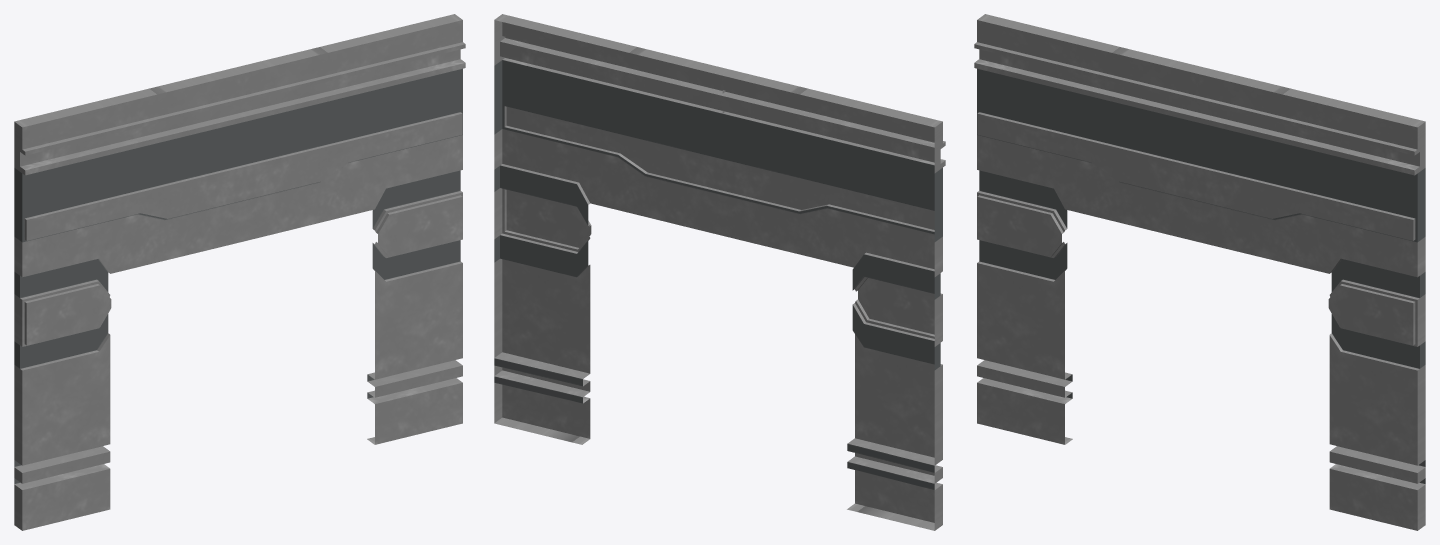
File: WallGate.fbx
3 views of the same model, side by side, from view 1: azimuth 30°, elevation 25°; view 2: azimuth 150°, elevation 25°; view 3: azimuth 330°, elevation 25° (orthographic).
Visible parts, largest first — view 1: Wall_Gate; view 2: Wall_Gate; view 3: Wall_Gate.
Part boxes in pixels (box(x1,y1,x2,y2)): Wall_Gate: box(14, 14, 465, 530); Wall_Gate: box(494, 14, 945, 530); Wall_Gate: box(974, 14, 1425, 530).
Size of the model in its own units: 400 by 350 by 17.29.
